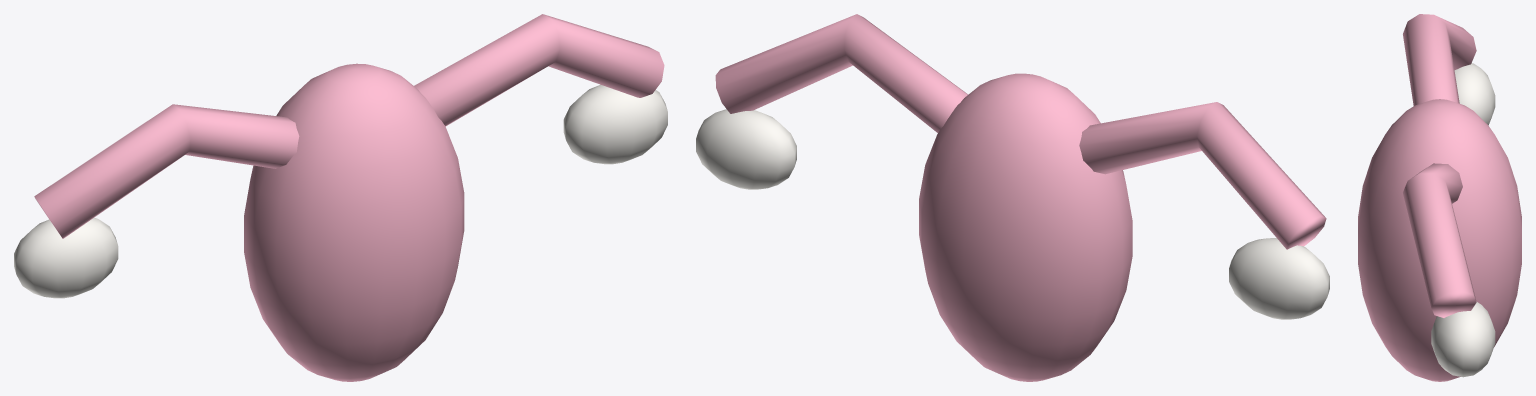
Rendered from female_reproductive.glb.
3 views of the same model, side by side, from view 1: azimuth 30°, elevation 25°; view 2: azimuth 150°, elevation 25°; view 3: azimuth 270°, elevation 25° (orthographic). The views are drawn at different scales.
Visible parts, largest first — view 1: organ_uterus, organ_fallopian_tube_l, organ_fallopian_tube_r, organ_ovary_r, organ_ovary_l; view 2: organ_uterus, organ_fallopian_tube_l, organ_fallopian_tube_r, organ_ovary_r, organ_ovary_l; view 3: organ_uterus, organ_fallopian_tube_r, organ_fallopian_tube_l, organ_ovary_r, organ_ovary_l.
Boxes of the visible parts, box(x1,y1,x2,y2) form: organ_uterus: box(244, 63, 464, 381); organ_fallopian_tube_l: box(34, 104, 299, 238); organ_fallopian_tube_r: box(414, 14, 664, 126); organ_ovary_r: box(563, 84, 667, 164); organ_ovary_l: box(14, 217, 118, 298); organ_uterus: box(919, 73, 1132, 381); organ_fallopian_tube_l: box(1079, 102, 1326, 249); organ_fallopian_tube_r: box(715, 14, 968, 132); organ_ovary_r: box(696, 109, 796, 189); organ_ovary_l: box(1229, 238, 1329, 319); organ_uterus: box(1358, 99, 1521, 381); organ_fallopian_tube_r: box(1403, 163, 1476, 317); organ_fallopian_tube_l: box(1403, 14, 1476, 105); organ_ovary_r: box(1431, 301, 1495, 377); organ_ovary_l: box(1454, 63, 1495, 125).
Bounding box in the file's own units: 0.1417 × 0.0668 × 0.0352.
